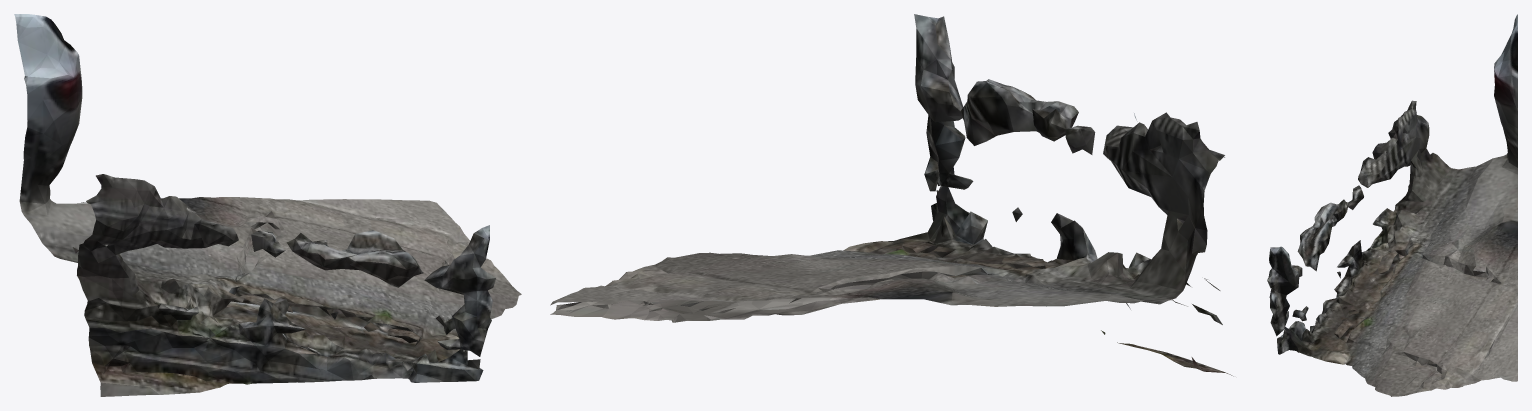
The picture shows the model from 3 angles, left to right: view 1: azimuth 30°, elevation 25°; view 2: azimuth 150°, elevation 25°; view 3: azimuth 270°, elevation 25°; orthographic projection. The views are drawn at different scales.
Bounding box in the file's own units: 3.35 × 2.43 × 2.37.
3 materials, 3 textured.
